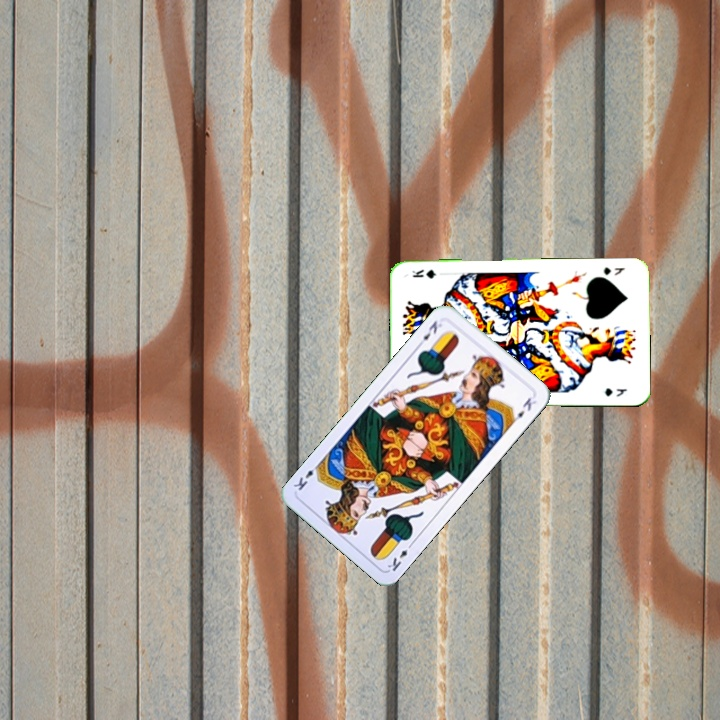EK: (383, 538, 416, 574), (414, 316, 445, 350)
GK: (600, 263, 627, 277)
